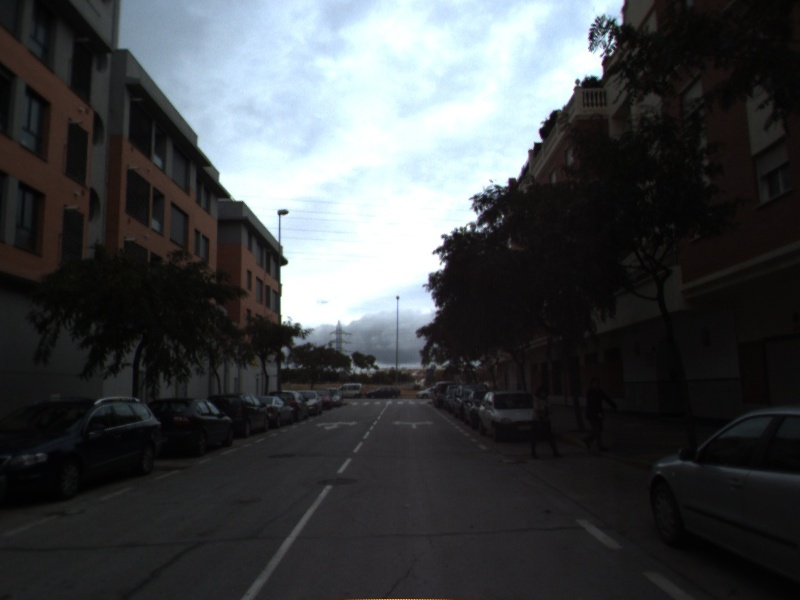LEFT_RIGHT: (390, 417, 436, 431)
